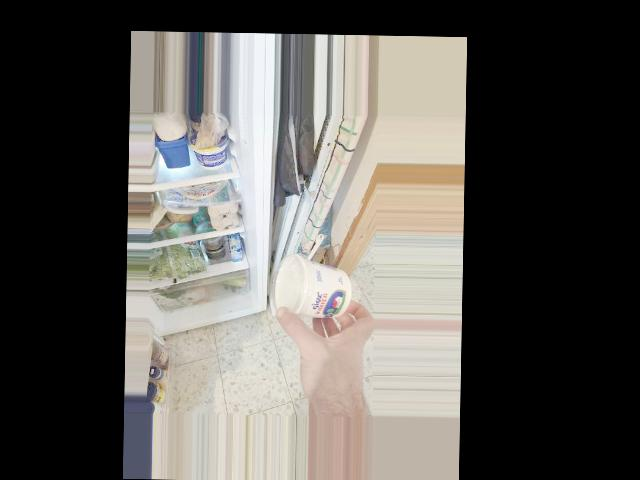cotage: (270, 251, 354, 330)
